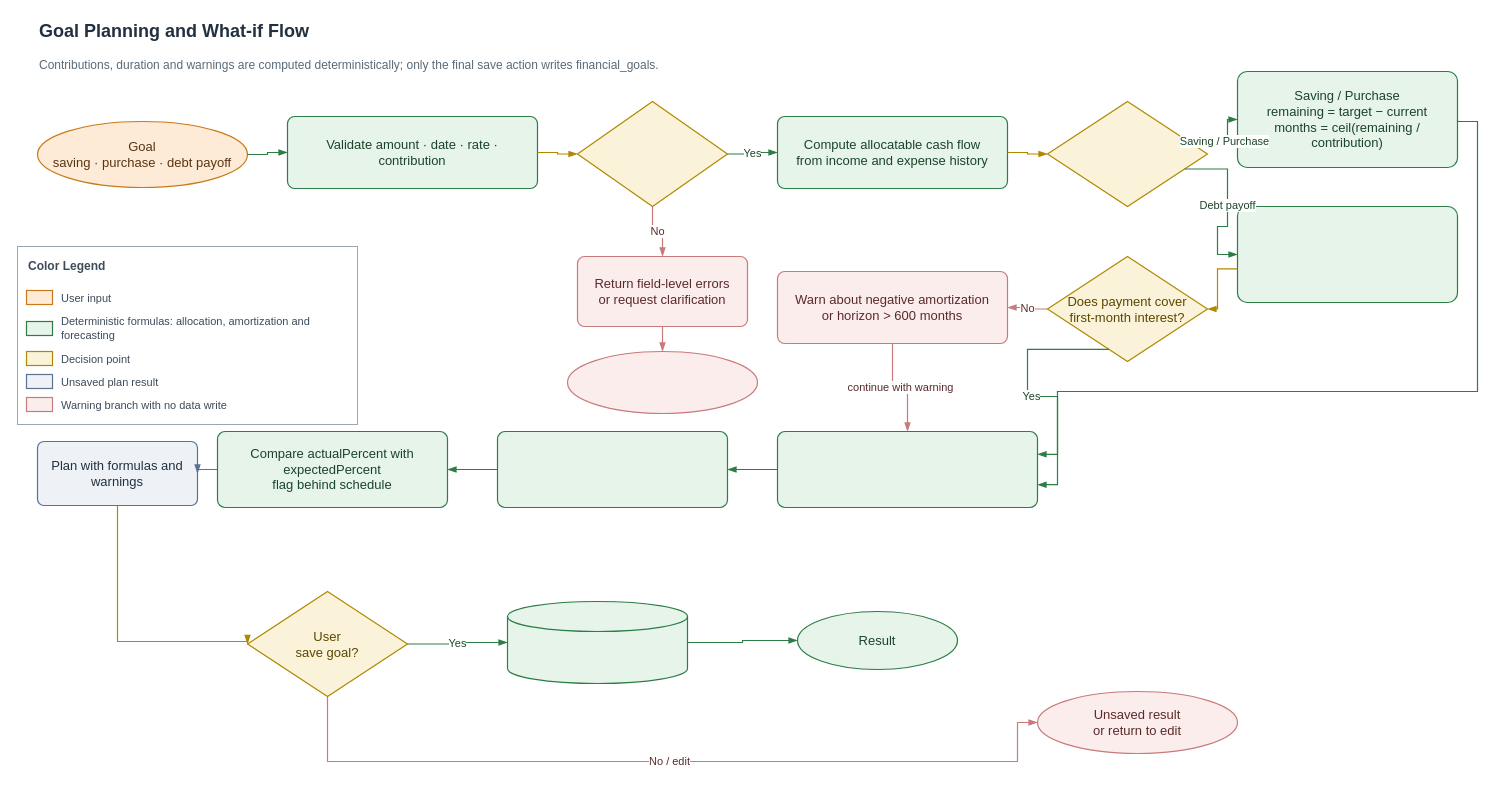
Image size: 1504x787. Some labels were removed from this diagram. Here are the shapes that lost their labels. From the top down, the centre of each, then its label:
the point at 652,153: Input valid?
the point at 1127,153: Goal type?
the point at 1347,254: Debt payoff monthly rate = annual / 12 monthly amortization
the point at 662,382: No plan created no data write
the point at 612,469: What-if scenario add a monthly contribution
the point at 907,469: Compute requiredMonthly · projectedDate onTrack · gap · shortfall
the point at 597,642: financial_goals
